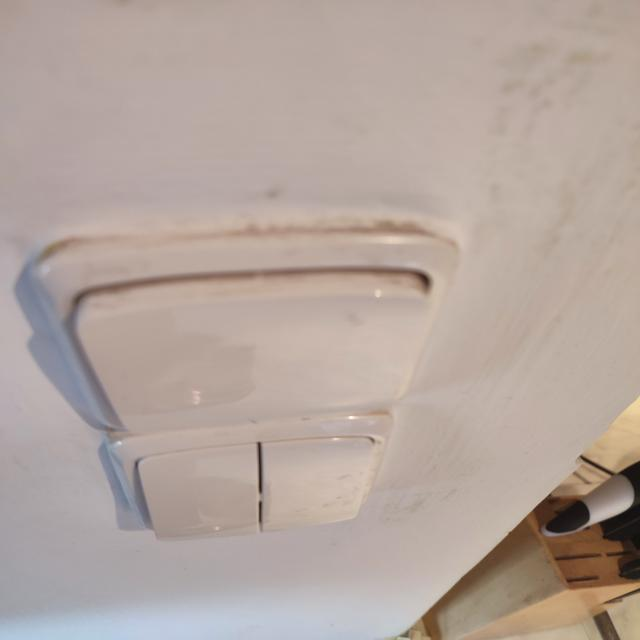house switch: (45, 249, 448, 431)
house switch double: (126, 423, 390, 538)
